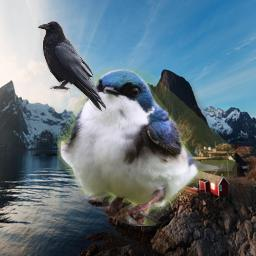Crow: (37, 20, 108, 113)
Swallow: (57, 68, 237, 226)
